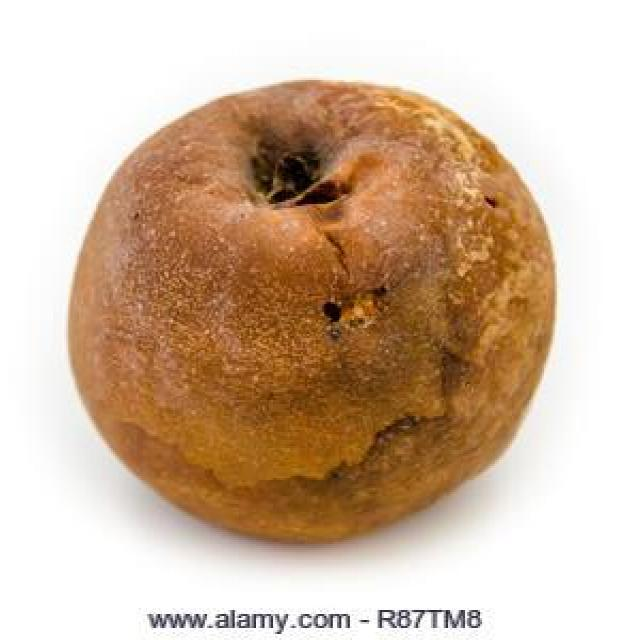Rotten: (61, 73, 557, 545)
